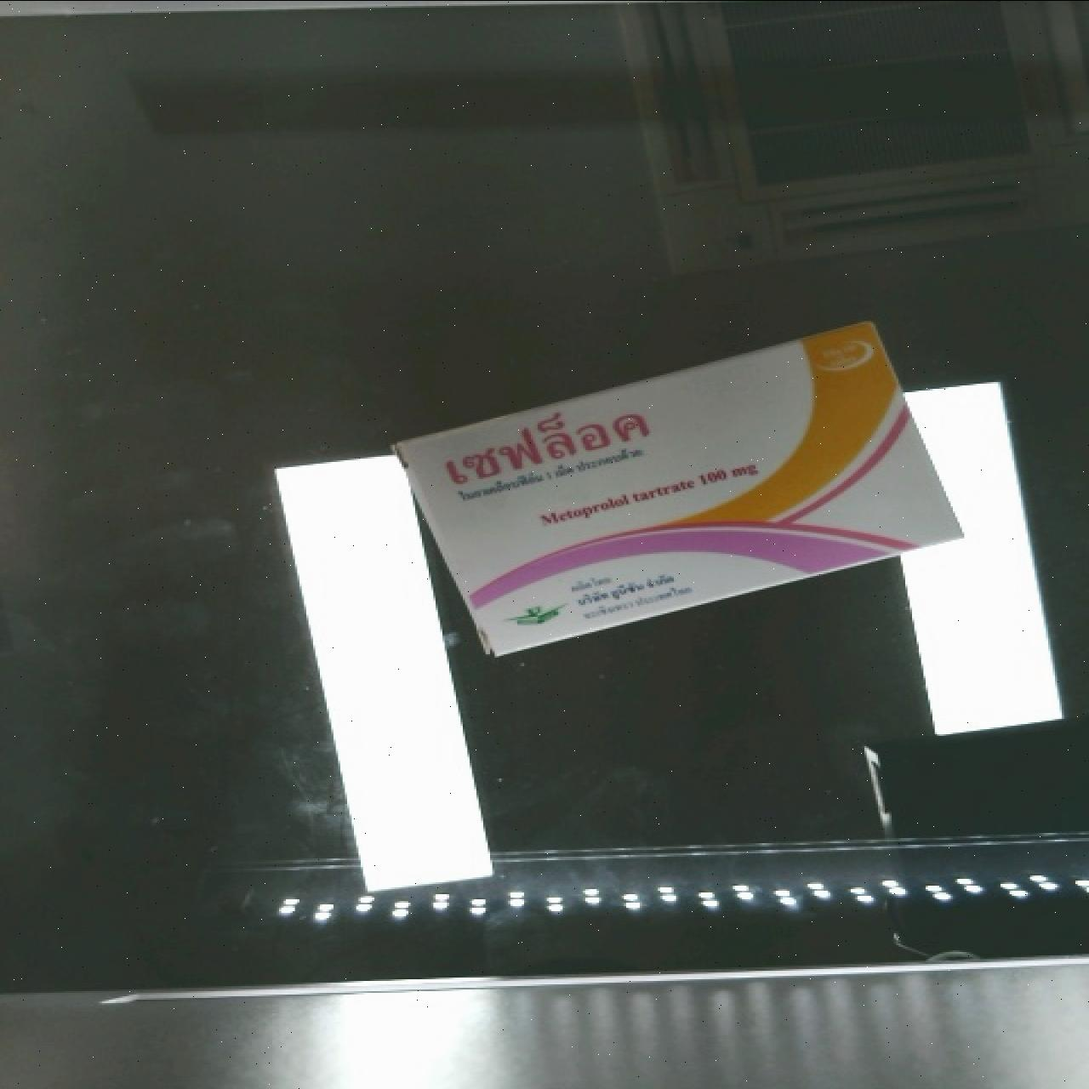medicine_label_obb: (390, 379, 671, 518)
